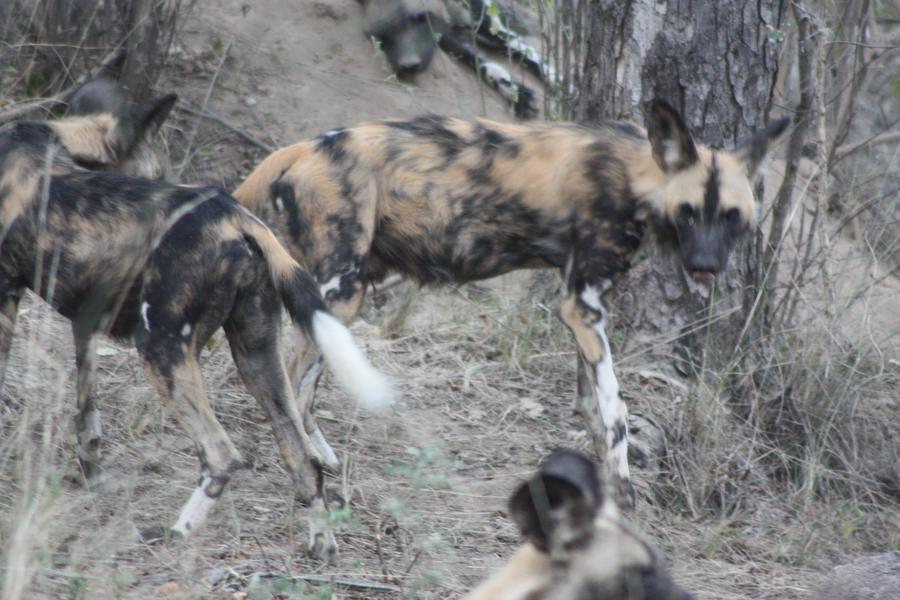wilddog: (311, 112, 785, 288), (1, 100, 237, 341), (364, 9, 546, 93)
